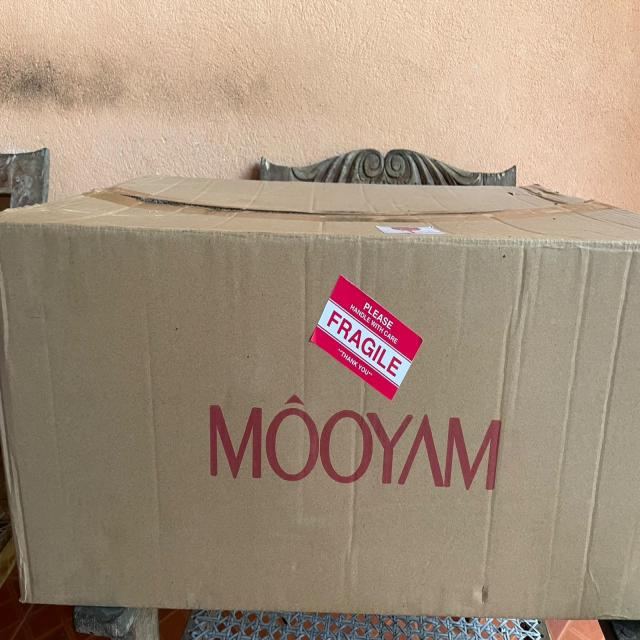carton_box: (0, 164, 640, 640)
fragile_label: (299, 260, 428, 408)
package_damage: (463, 563, 504, 619)
